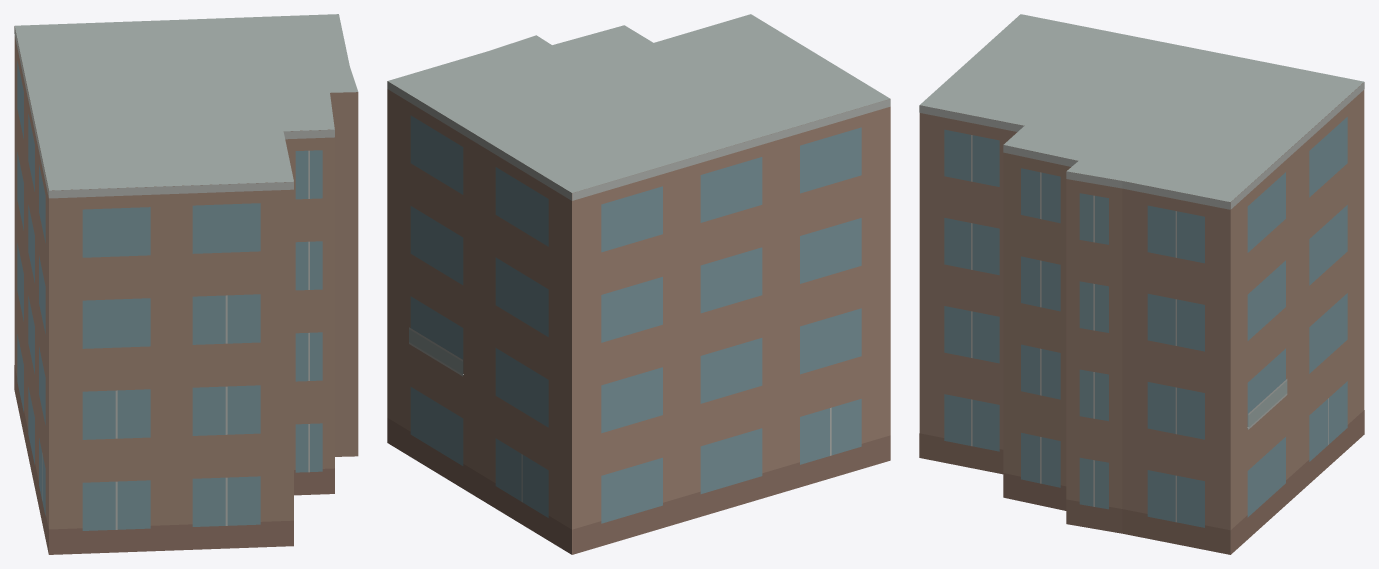
The model's file is survey-upis-32586756.glb.
The picture shows the model from 3 angles, left to right: view 1: azimuth 30°, elevation 25°; view 2: azimuth 150°, elevation 25°; view 3: azimuth 270°, elevation 25°; orthographic projection. The views are drawn at different scales.
Parts seen in each view (by area): view 1: survey-upis-32586756.tmp; view 2: survey-upis-32586756.tmp; view 3: survey-upis-32586756.tmp.
Part boxes in pixels (bbox=[...]): survey-upis-32586756.tmp: bbox=[14, 14, 358, 554]; survey-upis-32586756.tmp: bbox=[387, 14, 890, 554]; survey-upis-32586756.tmp: bbox=[919, 14, 1364, 554].
Bounding box in the file's own units: 12.82 × 11.2 × 12.82.
